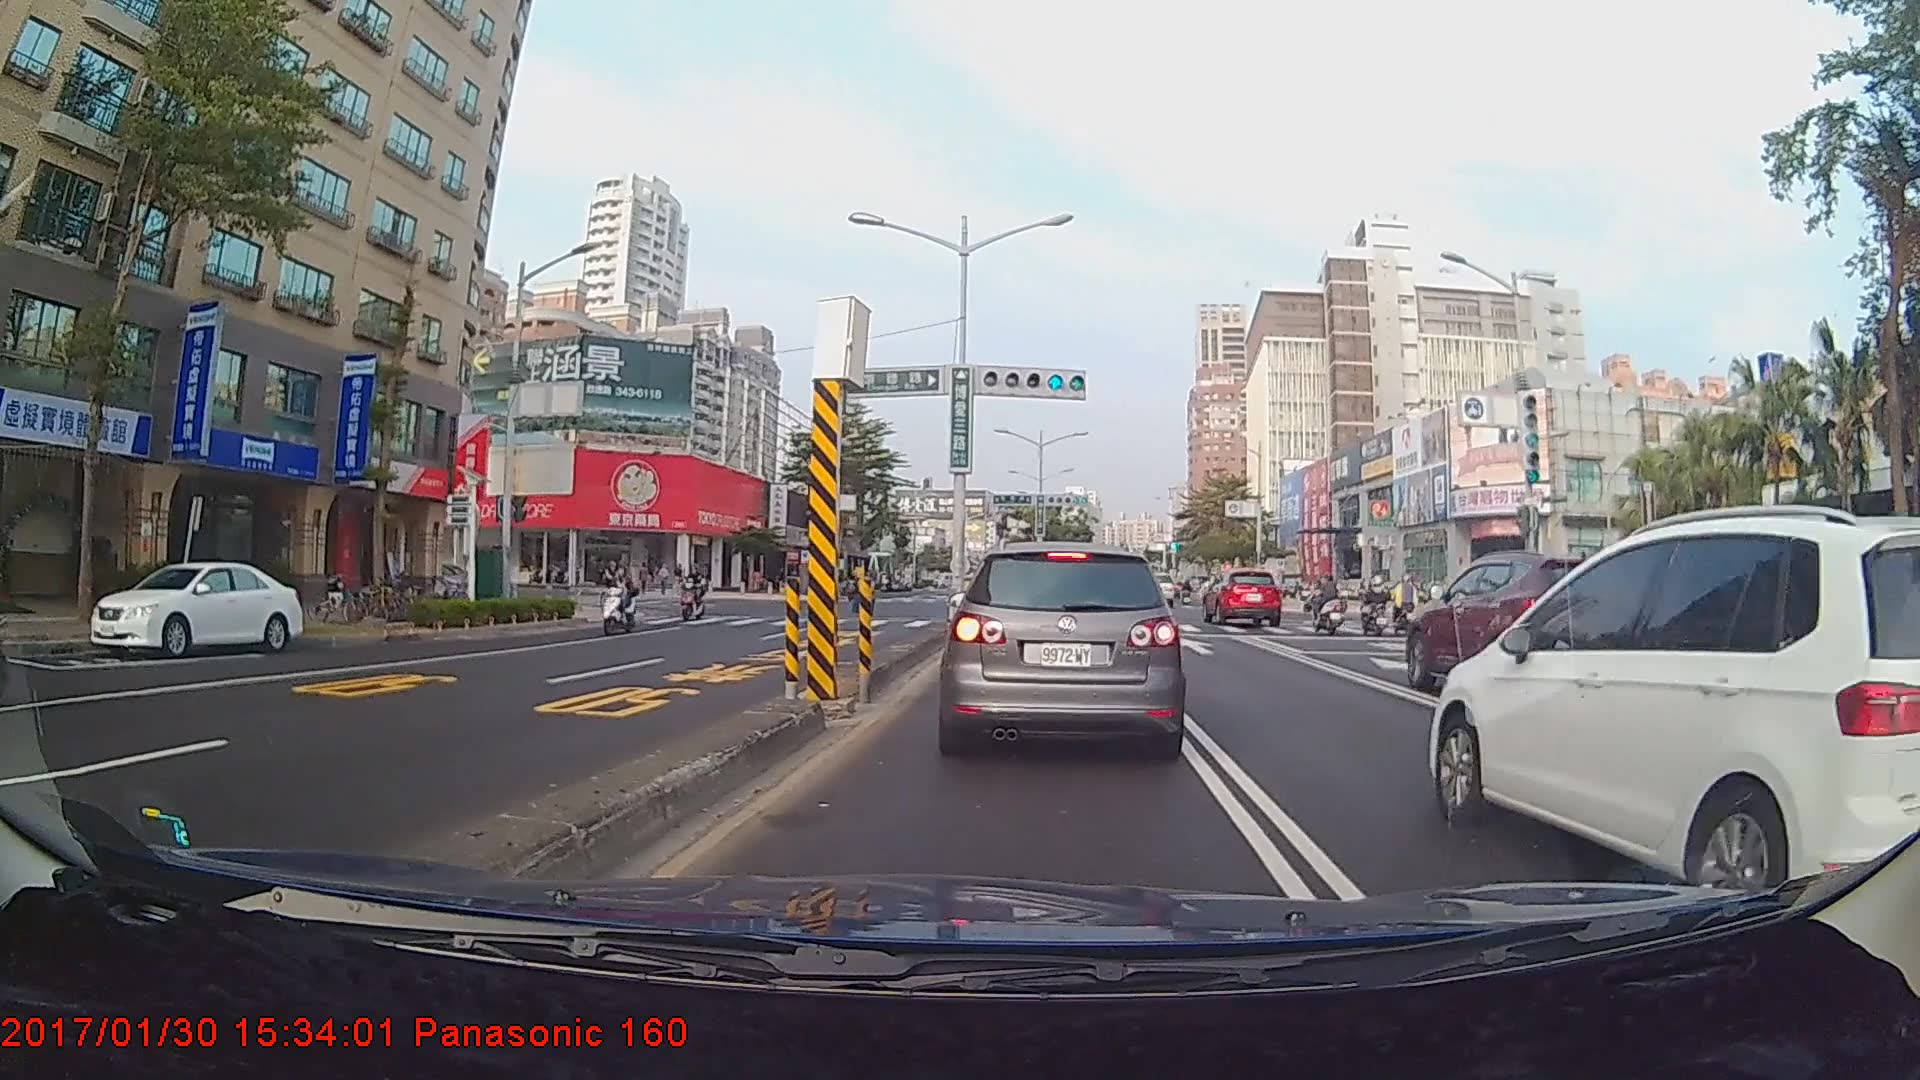rider: (597, 564, 645, 642), (1352, 574, 1401, 638), (1305, 572, 1355, 634), (600, 557, 635, 622), (682, 568, 714, 627)
vehicle: (1425, 500, 1917, 884), (945, 539, 1184, 753), (1407, 550, 1673, 703), (89, 561, 301, 659), (1203, 566, 1285, 627), (1138, 569, 1175, 606)
